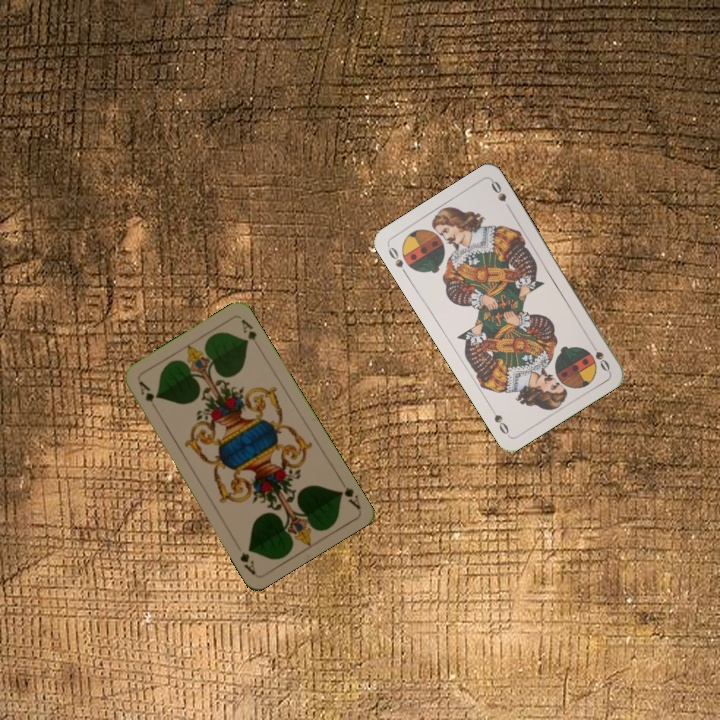GA: (334, 475, 363, 512), (134, 377, 161, 413)
SO: (586, 337, 613, 374), (384, 242, 410, 278)
